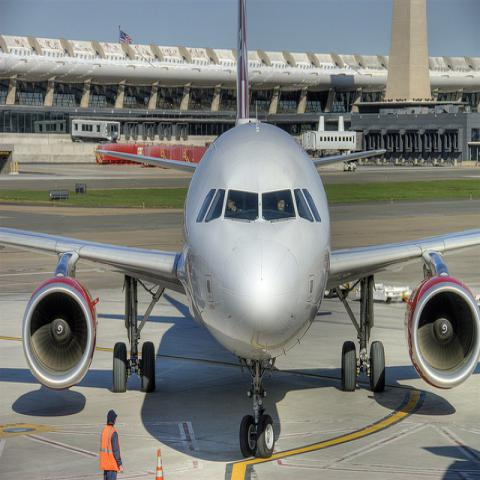car: (344, 162, 356, 172)
